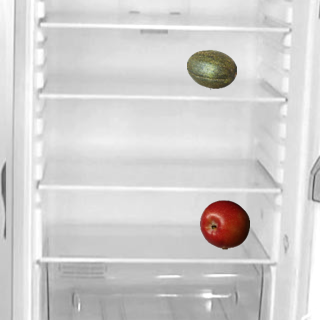Apple Braeburn: (199, 199, 249, 249)
Melon Piel de Sapo: (186, 44, 236, 94)
